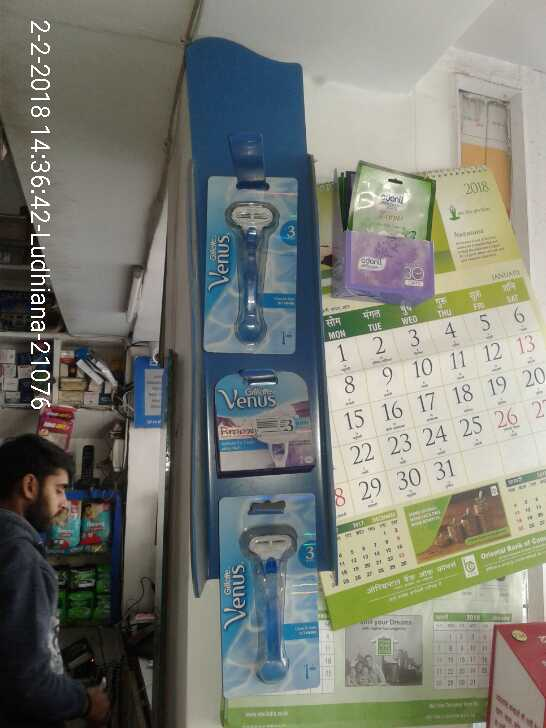venus: (220, 496, 315, 687), (204, 172, 301, 356), (215, 365, 315, 476)
